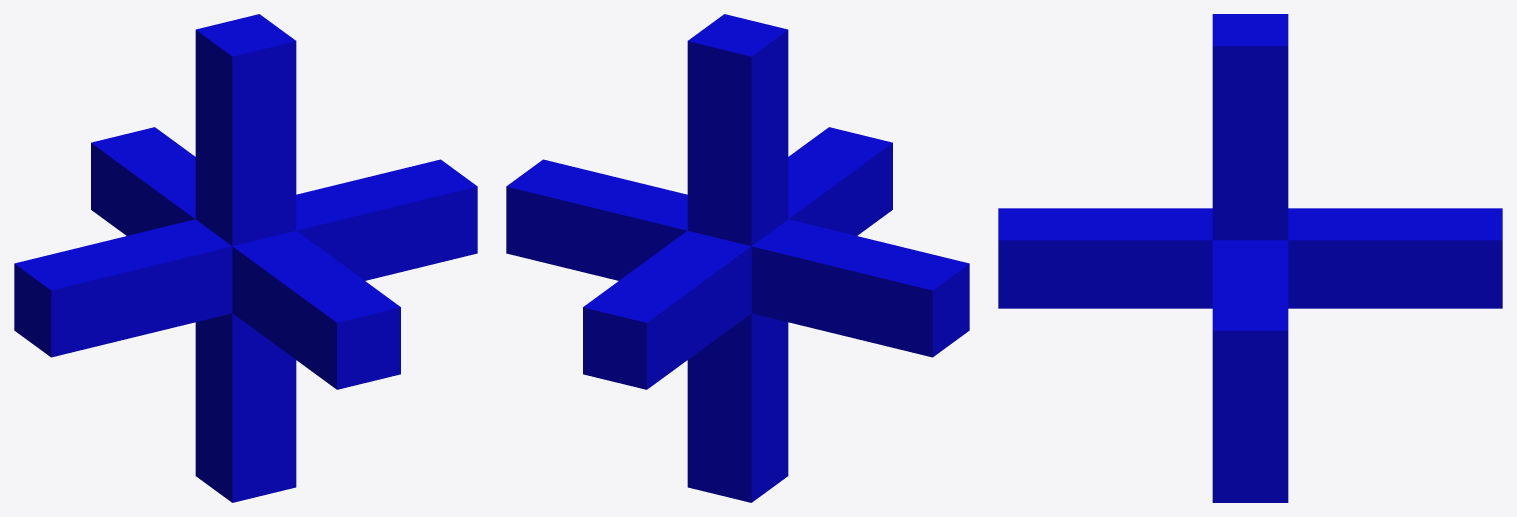
Rendered from dead star 2.glb.
3 renders of one model, left to right at view 1: azimuth 30°, elevation 25°; view 2: azimuth 150°, elevation 25°; view 3: azimuth 270°, elevation 25°, orthographic. The views are drawn at different scales.
Visible parts, largest first — view 1: Cube.001, Cube.003, Cube; view 2: Cube.001, Cube.003, Cube; view 3: Cube, Cube.001, Cube.003.
Boxes of the visible parts, x1,y1,x2,y2 form: Cube.001: [195, 14, 296, 502]; Cube.003: [14, 159, 477, 357]; Cube: [91, 127, 400, 389]; Cube.001: [687, 14, 788, 502]; Cube.003: [506, 159, 969, 357]; Cube: [583, 127, 892, 389]; Cube: [998, 208, 1502, 308]; Cube.001: [1212, 14, 1288, 502]; Cube.003: [1212, 240, 1288, 399].
Bounding box in the file's own units: 13.33 × 13.33 × 13.33.
